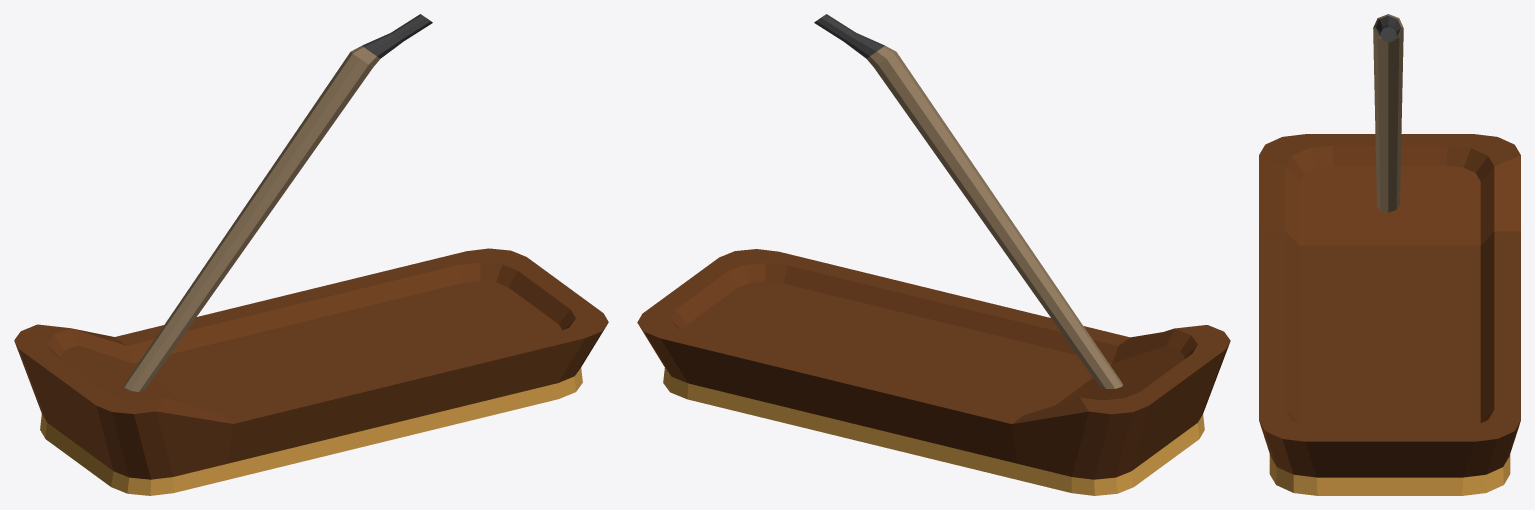
Rendered from incense.fbx.
3 renders of one model, left to right at view 1: azimuth 30°, elevation 25°; view 2: azimuth 150°, elevation 25°; view 3: azimuth 270°, elevation 25°, orthographic. The views are drawn at different scales.
Visible parts, largest first — view 1: Incense; view 2: Incense; view 3: Incense.
Part boxes in pixels (x1,y1,x2,y2): Incense: (14, 14, 608, 495); Incense: (637, 14, 1230, 495); Incense: (1259, 14, 1520, 495).
Size of the model in its own units: 85.07 by 34.5 by 58.48.
